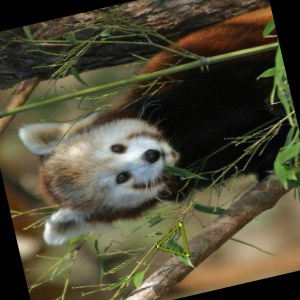triangle: (153, 219, 192, 260)
